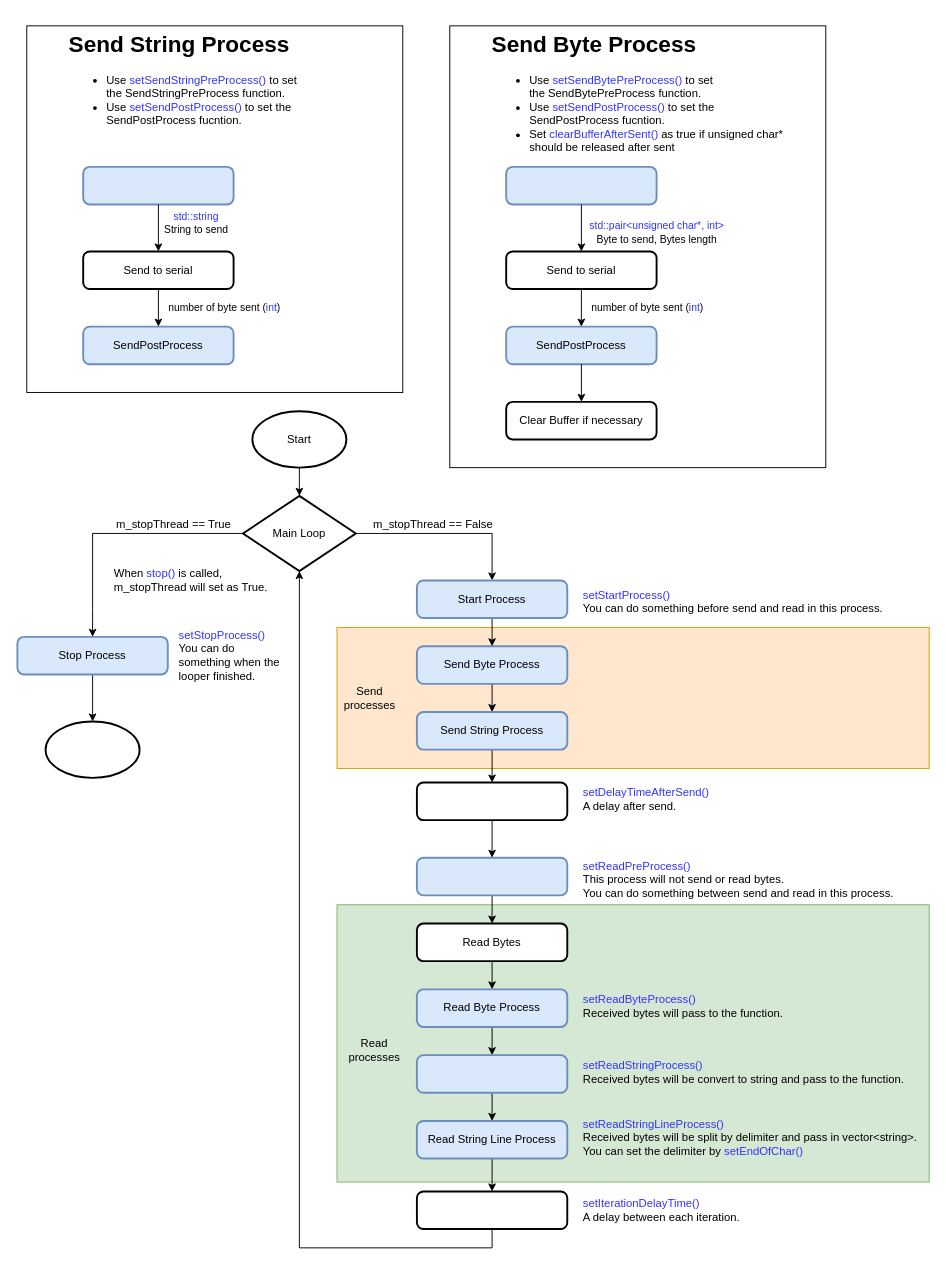
This 946x1272 diagram has some shape labels left out. Here are the shapes that lost their labels. From the top down, the centre of each, then its label:
At pixel 158 185: "SendStringPreProcess".
At pixel 581 185: "SendBytePreProcess".
At pixel 92 749: "End".
At pixel 491 801: "Delay After send".
At pixel 491 876: "Read Pre-Process".
At pixel 491 1073: "Read String Process".
At pixel 491 1210: "Delay between iteration".
